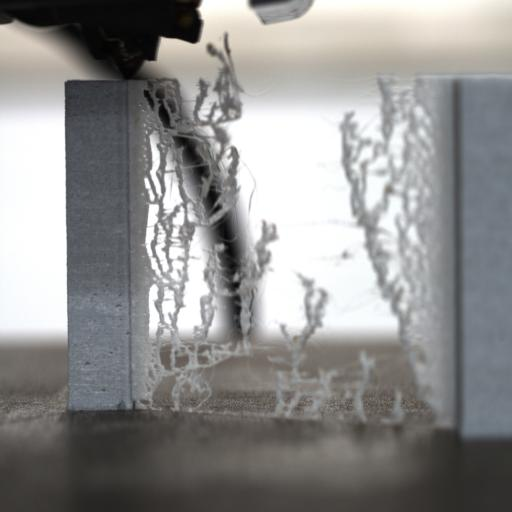stringing: (136, 32, 281, 405), (333, 74, 442, 419)
